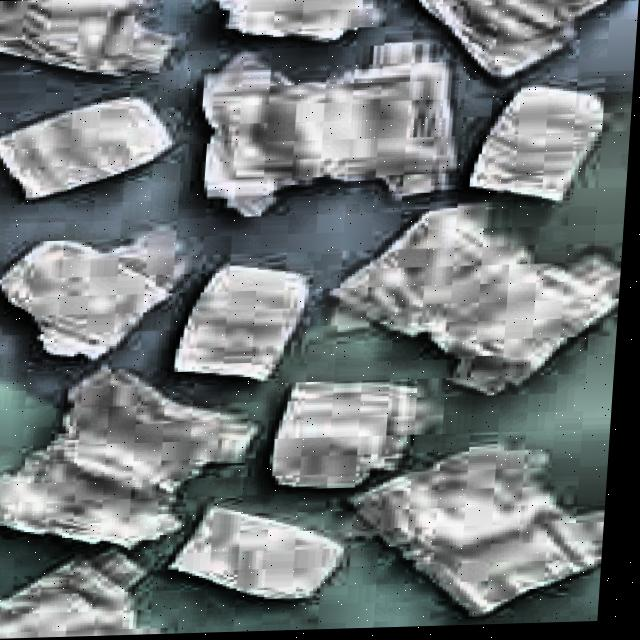trash: (309, 197, 626, 392), (0, 360, 281, 552), (349, 433, 605, 620), (196, 37, 466, 212), (0, 218, 194, 362), (156, 493, 353, 609), (406, 0, 640, 83), (0, 96, 179, 200), (458, 84, 616, 200), (266, 374, 425, 489), (168, 261, 316, 382), (0, 552, 174, 640), (0, 0, 175, 84), (203, 0, 390, 43)
